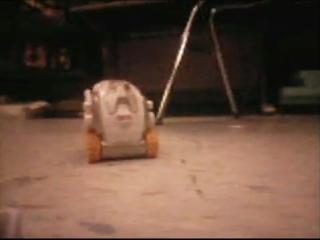cozmo: (80, 78, 159, 163)
